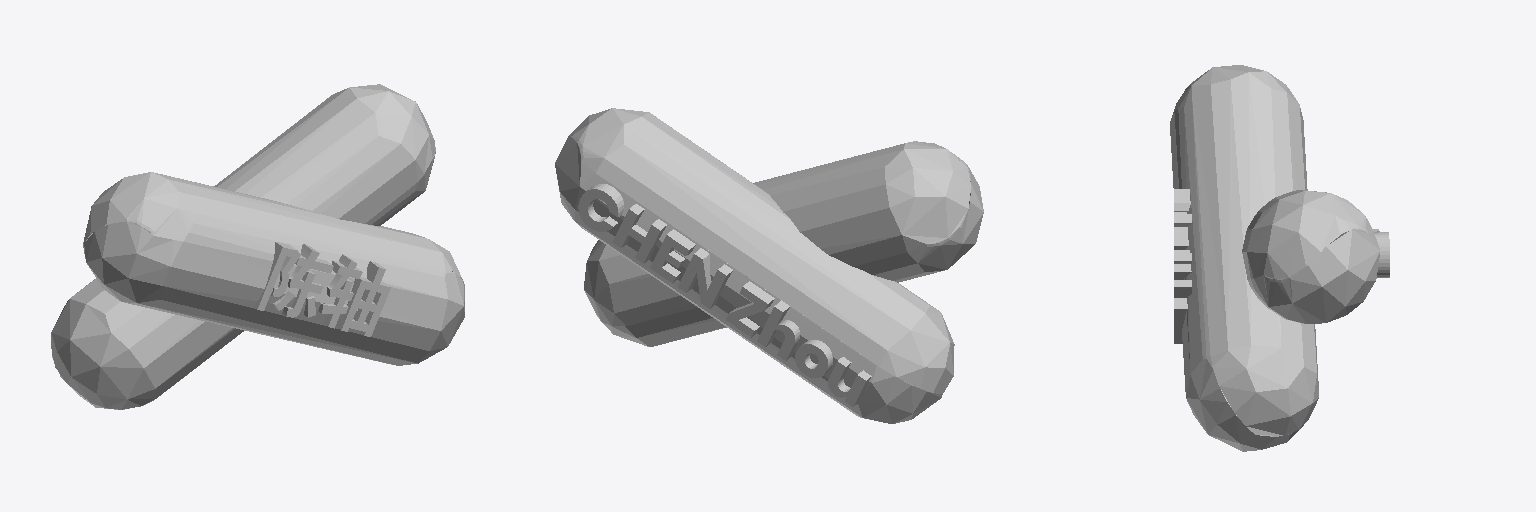
File: ChenZhou.obj
The picture shows the model from 3 angles: view 1: azimuth 30°, elevation 25°; view 2: azimuth 150°, elevation 25°; view 3: azimuth 270°, elevation 25°; orthographic projection.
Visible parts, largest first — view 1: root_3, root_2, node_id188; view 2: root_2, root_3, node_id172; view 3: root_3, root_2, node_id188, node_id172.
Boxes of the visible parts, x1,y1,x2,y2 form: root_3: [83, 172, 464, 365]; root_2: [51, 84, 435, 409]; node_id188: [254, 242, 390, 336]; root_2: [555, 108, 954, 423]; root_3: [584, 141, 983, 346]; node_id172: [578, 184, 871, 406]; root_3: [1170, 65, 1318, 451]; root_2: [1242, 190, 1379, 323]; node_id188: [1174, 189, 1191, 343]; node_id172: [1373, 229, 1389, 277].
Size of the model in its own units: 0.289 by 0.1836 by 0.1467.